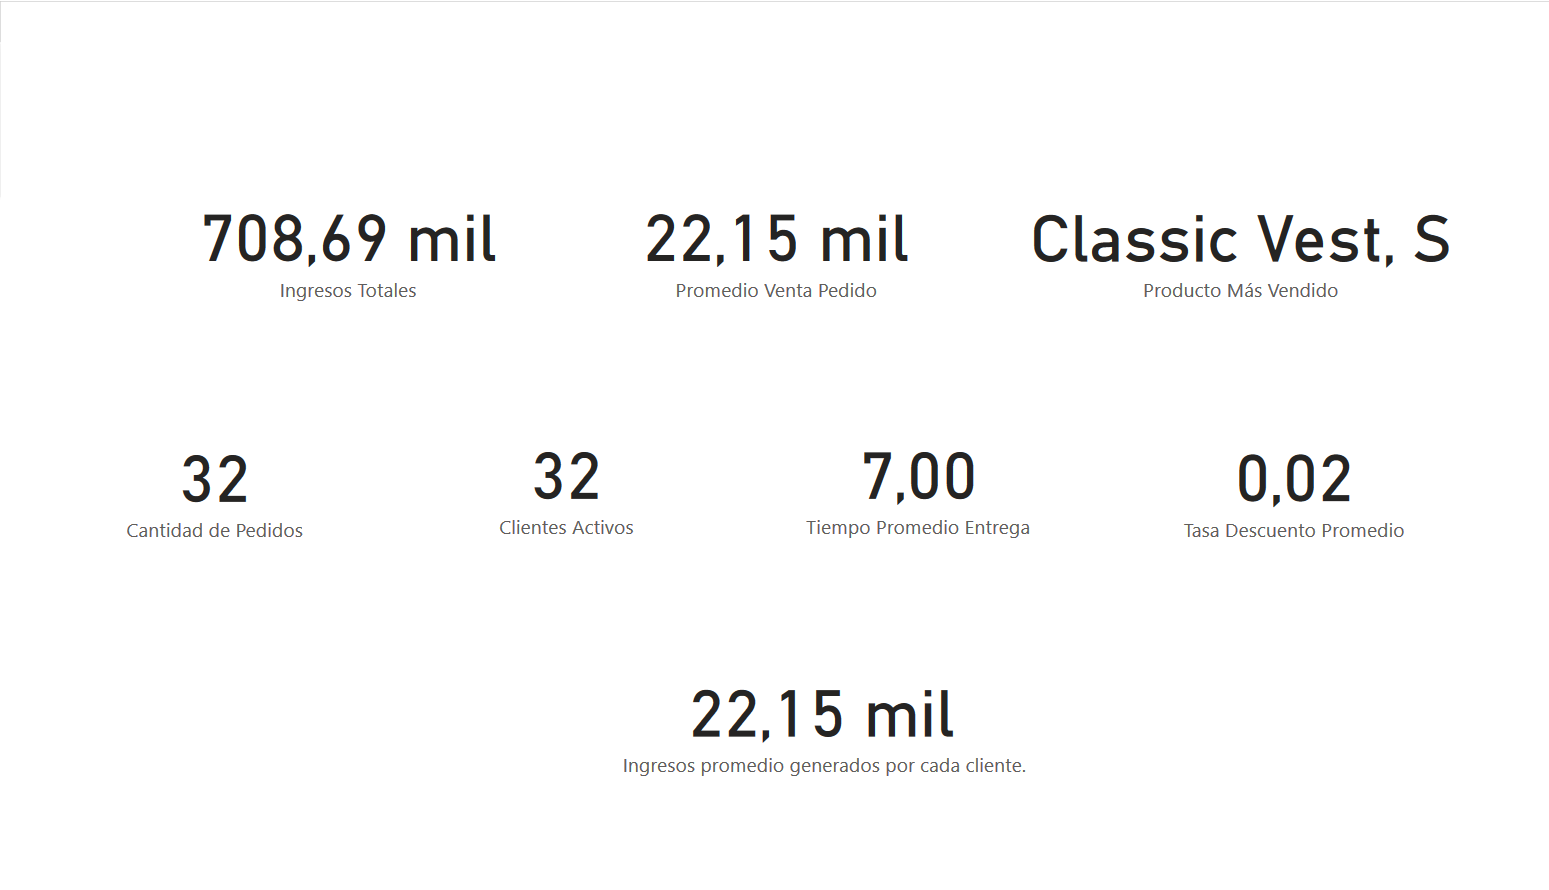

Layout of this report page (visuals, bound fields, positions):
{"tool":"powerbi","page":{"name":"Página 1","canvas":[1280,720],"ordinal":0},"visuals":[{"type":"card","fields":{"Values":["SalesOrderDetail.Ingresos Totales"]},"box":[141.7,110,290,178.3],"z":0},{"type":"card","fields":{"Values":["SalesOrderHeader.Cantidad de Pedidos"]},"box":[31.7,308.3,290,178.3],"z":1000},{"type":"card","fields":{"Values":["SalesOrderHeader.Promedio Venta Pedido"]},"box":[495,110,290,178.3],"z":2000},{"type":"card","fields":{"Values":["SalesOrderHeader.Clientes Activos"]},"box":[322.2,305.6,290,178.3],"z":3000},{"type":"card","fields":{"Values":["SalesOrderDetail.Producto Más Vendido"]},"box":[833.9,131.1,378.3,136.7],"z":4000},{"type":"card","fields":{"Values":["SalesOrderHeader.Tiempo Promedio Entrega"]},"box":[612.2,306.1,290,178.3],"z":5000},{"type":"card","fields":{"Values":["SalesOrderDetail.Tasa Descuento Promedio"]},"box":[922.2,307.8,290,178.3],"z":6000},{"type":"card","fields":{"Values":["SalesOrderDetail.CLV"]},"box":[478.3,501.7,398.3,178.3],"z":7000}]}

Visuals, with their boxes in screenshot pixels (x1, y1, x2, y2), scaled from the page's 1280x720 canvas onto the 1549x890 screenshot:
card - SalesOrderDetail.Ingresos Totales: 171,136,522,356
card - SalesOrderHeader.Cantidad de Pedidos: 38,381,389,601
card - SalesOrderHeader.Promedio Venta Pedido: 599,136,950,356
card - SalesOrderHeader.Clientes Activos: 390,378,741,598
card - SalesOrderDetail.Producto Más Vendido: 1009,162,1467,331
card - SalesOrderHeader.Tiempo Promedio Entrega: 741,378,1092,599
card - SalesOrderDetail.Tasa Descuento Promedio: 1116,380,1467,601
card - SalesOrderDetail.CLV: 579,620,1061,841
